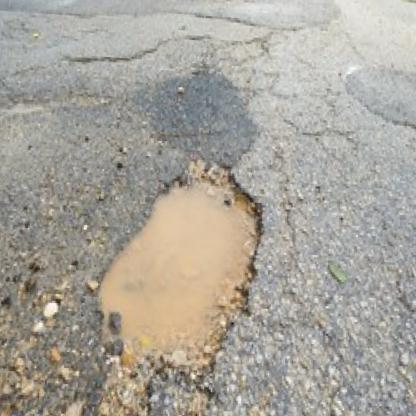pothole: (80, 150, 273, 416)
